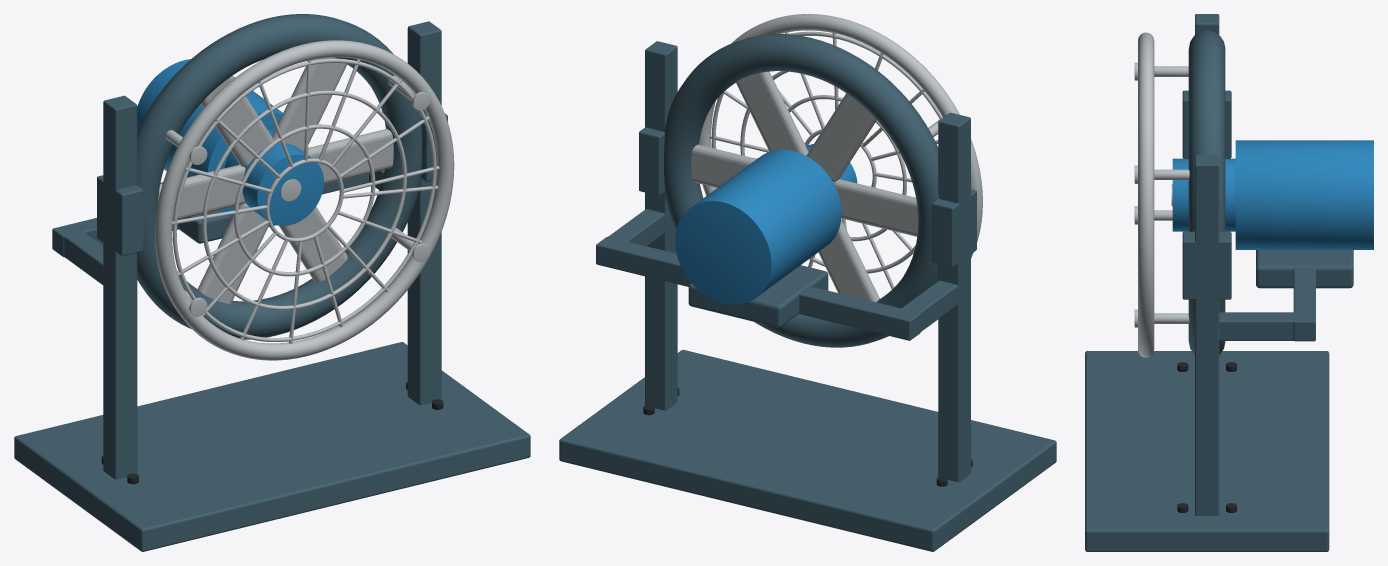
File: axial_exhaust_fan.glb
The picture shows the model from 3 angles, left to right: view 1: azimuth 30°, elevation 25°; view 2: azimuth 150°, elevation 25°; view 3: azimuth 270°, elevation 25°; orthographic projection. The views are drawn at different scales.
Parts seen in each view (by area): view 1: FAN_base, FAN_shroud, FAN_guard_outer, FAN_post_-0.82, FAN_post_0.82, FAN_hub, GUARD_ring_0.7, GUARD_ring_0.54, FAN_blade_4, FAN_motor, FAN_blade_1, FAN_shroud_bracket_-0.82 (+9 smaller); view 2: FAN_base, FAN_shroud, FAN_motor, FAN_post_-0.82, FAN_post_0.82, FAN_motor_crossrail, FAN_guard_outer, FAN_motor_foot, FAN_blade_3, FAN_blade_2, FAN_blade_1, FAN_shroud_bracket_-0.82 (+8 smaller); view 3: FAN_base, FAN_motor, FAN_post_0.82, FAN_shroud, FAN_guard_outer, FAN_motor_foot, FAN_shroud_bracket_0.82, FAN_motor_arm_0.82, FAN_hub, FAN_motor_crossrail, FAN_shroud_bracket_-0.82, FAN_post_-0.82 (+3 smaller).
Part boxes in pixels (left/top/right/bottom): FAN_base: left=14, top=342, right=530, bottom=551; FAN_shroud: left=136, top=14, right=421, bottom=339; FAN_guard_outer: left=155, top=40, right=454, bottom=360; FAN_post_-0.82: left=103, top=95, right=137, bottom=479; FAN_post_0.82: left=407, top=21, right=441, bottom=405; FAN_hub: left=224, top=130, right=323, bottom=225; GUARD_ring_0.7: left=172, top=58, right=436, bottom=341; GUARD_ring_0.54: left=202, top=90, right=406, bottom=310; FAN_blade_4: left=198, top=203, right=268, bottom=303; FAN_motor: left=137, top=59, right=282, bottom=217; FAN_blade_1: left=272, top=57, right=347, bottom=151; FAN_shroud_bracket_-0.82: left=97, top=175, right=143, bottom=256; FAN_base: left=559, top=349, right=1056, bottom=551; FAN_shroud: left=664, top=34, right=939, bottom=347; FAN_motor: left=675, top=149, right=841, bottom=304; FAN_post_-0.82: left=938, top=112, right=970, bottom=482; FAN_post_0.82: left=645, top=41, right=677, bottom=410; FAN_motor_crossrail: left=596, top=237, right=920, bottom=340; FAN_guard_outer: left=699, top=14, right=982, bottom=257; FAN_motor_foot: left=688, top=265, right=828, bottom=327; FAN_blade_3: left=834, top=179, right=918, bottom=236; FAN_blade_2: left=806, top=93, right=876, bottom=181; FAN_blade_1: left=735, top=71, right=808, bottom=155; FAN_shroud_bracket_-0.82: left=932, top=189, right=976, bottom=267; FAN_base: left=1085, top=351, right=1329, bottom=551; FAN_motor: left=1235, top=140, right=1373, bottom=249; FAN_post_0.82: left=1195, top=155, right=1219, bottom=515; FAN_shroud: left=1188, top=30, right=1225, bottom=354; FAN_guard_outer: left=1138, top=32, right=1154, bottom=357; FAN_motor_foot: left=1256, top=250, right=1353, bottom=288; FAN_shroud_bracket_0.82: left=1182, top=231, right=1231, bottom=299; FAN_motor_arm_0.82: left=1219, top=312, right=1313, bottom=340; FAN_hub: left=1172, top=158, right=1235, bottom=231; FAN_motor_crossrail: left=1293, top=267, right=1315, bottom=341; FAN_shroud_bracket_-0.82: left=1182, top=90, right=1231, bottom=158; FAN_post_-0.82: left=1195, top=14, right=1219, bottom=34.
Bounding box in the file's own units: 2.1 × 2.26 × 1.42.
